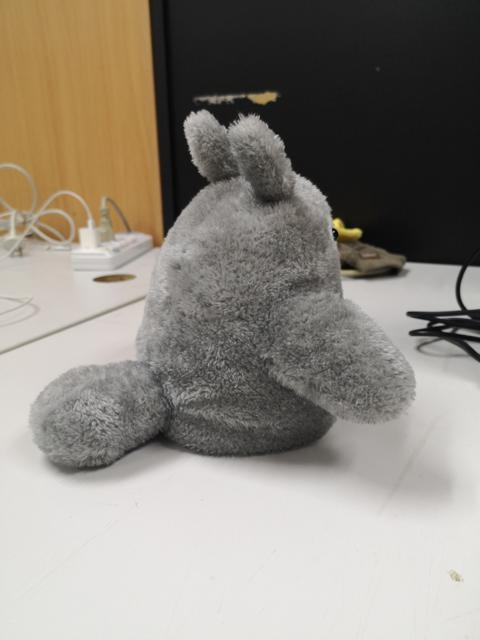totoro: (22, 106, 422, 484)
